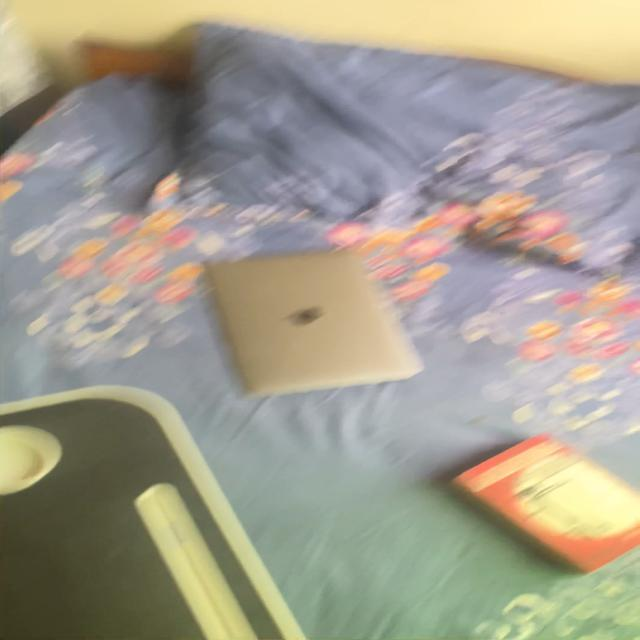book: (423, 425, 640, 568)
laptop: (193, 248, 438, 403)
table: (2, 373, 310, 640)
